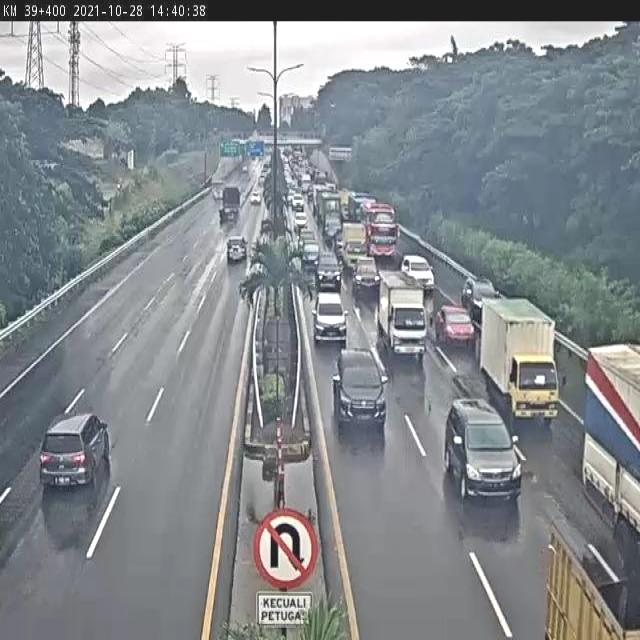Car: (445, 400, 521, 504), (39, 410, 111, 488), (332, 347, 389, 438), (312, 291, 348, 344), (435, 305, 476, 351), (399, 254, 435, 292), (352, 257, 380, 296), (315, 253, 342, 291), (300, 239, 321, 273), (226, 235, 248, 262), (281, 147, 294, 171), (294, 210, 308, 230), (290, 192, 304, 211), (260, 161, 270, 184), (301, 173, 311, 192), (250, 190, 262, 205), (254, 152, 265, 166), (284, 177, 292, 194), (326, 182, 336, 193)
Truck: (582, 338, 640, 521), (478, 298, 554, 399), (377, 268, 430, 362), (220, 185, 240, 223)
